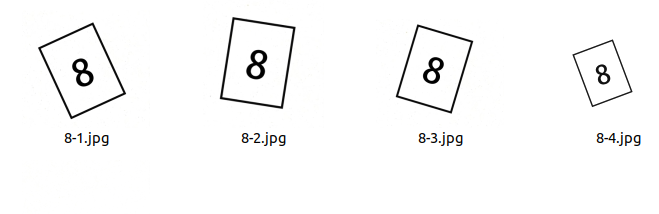eight: (237, 42, 278, 88), (585, 48, 622, 97), (65, 50, 101, 92), (419, 45, 447, 90)
